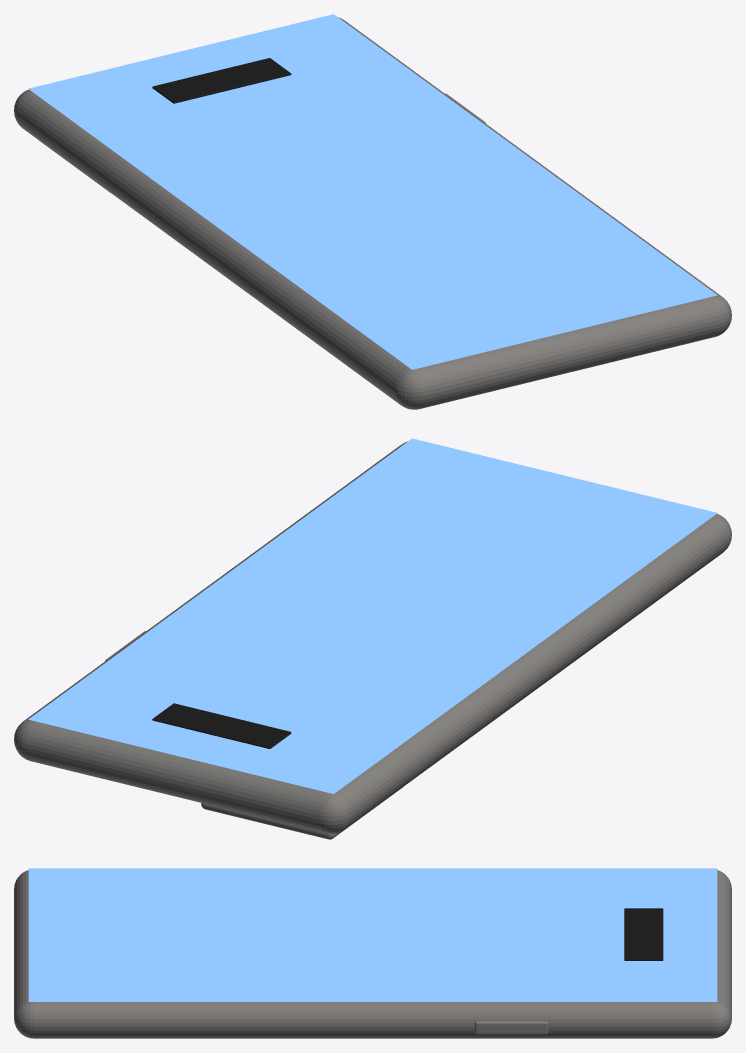
Rendered from iphone.glb.
3 views of the same model, one above another, from view 1: azimuth 30°, elevation 25°; view 2: azimuth 150°, elevation 25°; view 3: azimuth 270°, elevation 25° (orthographic). The views are drawn at different scales.
Parts seen in each view (by area): view 1: Screen, Body, DynamicIsland; view 2: Screen, Body, DynamicIsland, CameraBump; view 3: Screen, Body, DynamicIsland, PowerButton.
Boxes of the visible parts, box(x1,y1,x2,y2) form: Screen: box(28, 14, 717, 369); Body: box(14, 17, 731, 409); DynamicIsland: box(152, 58, 291, 103); Screen: box(28, 438, 717, 793); Body: box(14, 441, 731, 833); DynamicIsland: box(152, 703, 291, 748); CameraBump: box(201, 788, 401, 839); Screen: box(28, 868, 717, 1001); Body: box(14, 870, 731, 1038); DynamicIsland: box(624, 908, 663, 960); PowerButton: box(475, 1021, 548, 1034).
Bounding box in the file's own units: 0.0715 × 0.0116 × 0.1466.
